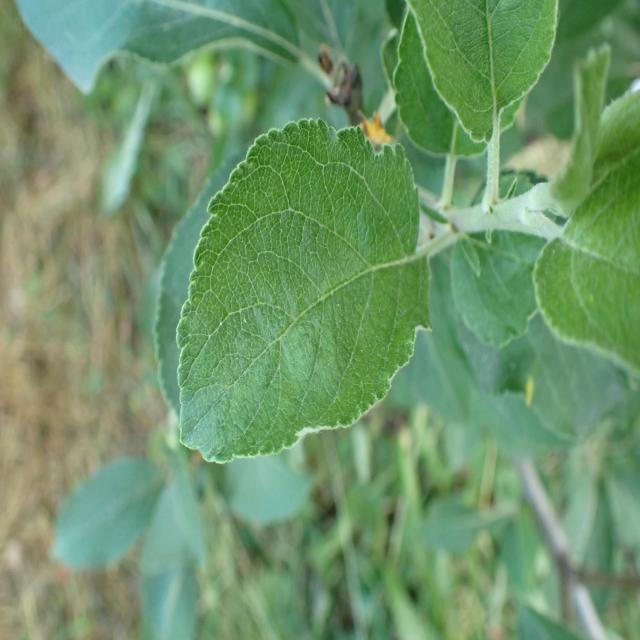healthy: (175, 116, 432, 464), (528, 84, 640, 443), (531, 85, 640, 377), (389, 0, 558, 154)
